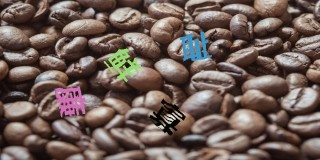寡: (149, 98, 186, 136)
廉: (54, 86, 87, 117)
耻: (180, 31, 212, 60)
鲜: (104, 48, 142, 82)
